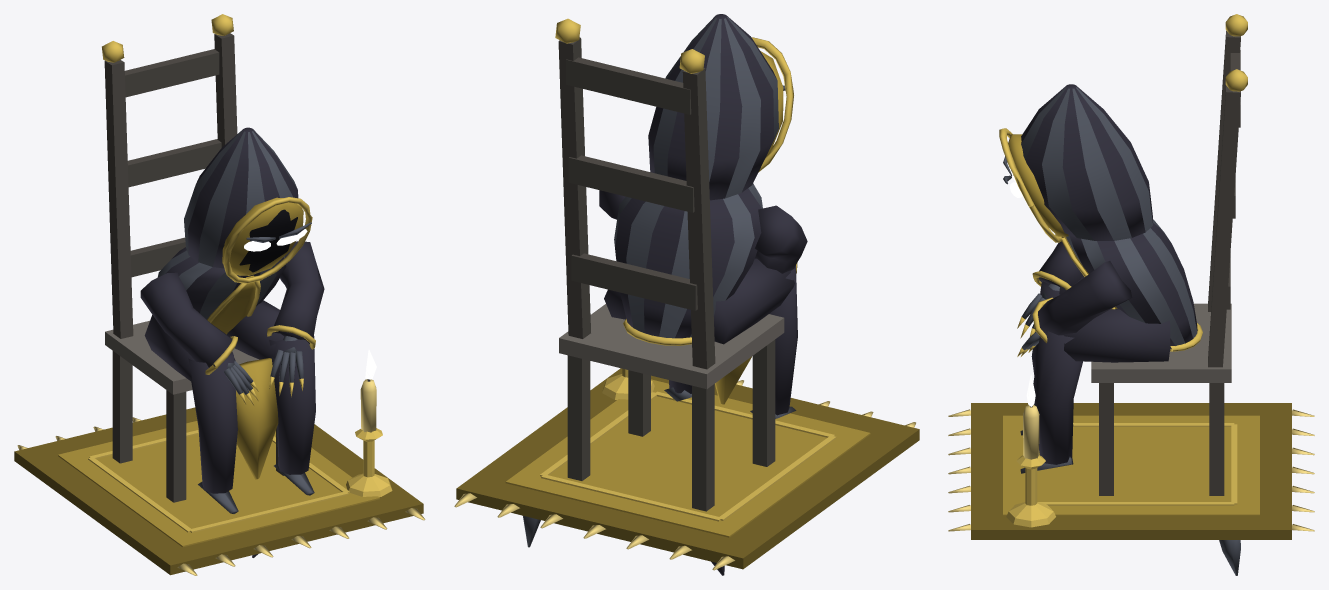
The model's file is lurker-the-one-who-sits-up.glb.
3 views of the same model, side by side, from view 1: azimuth 30°, elevation 25°; view 2: azimuth 150°, elevation 25°; view 3: azimuth 270°, elevation 25° (orthographic). The views are drawn at different scales.
Visible parts, largest first — view 1: lurker_the_one_who_sits_up, turn_head; view 2: lurker_the_one_who_sits_up, turn_head; view 3: lurker_the_one_who_sits_up, turn_head, sway_under.
Boxes of the visible parts, <box> form: lurker_the_one_who_sits_up: <box>14,14,425,575</box>; turn_head: <box>184,127,312,283</box>; lurker_the_one_who_sits_up: <box>454,18,919,570</box>; turn_head: <box>648,14,793,200</box>; lurker_the_one_who_sits_up: <box>948,14,1314,539</box>; turn_head: <box>999,84,1152,242</box>; sway_under: <box>1219,540,1240,575</box>.
Size of the model in its own units: 0.6 by 1.08 by 0.7308.
